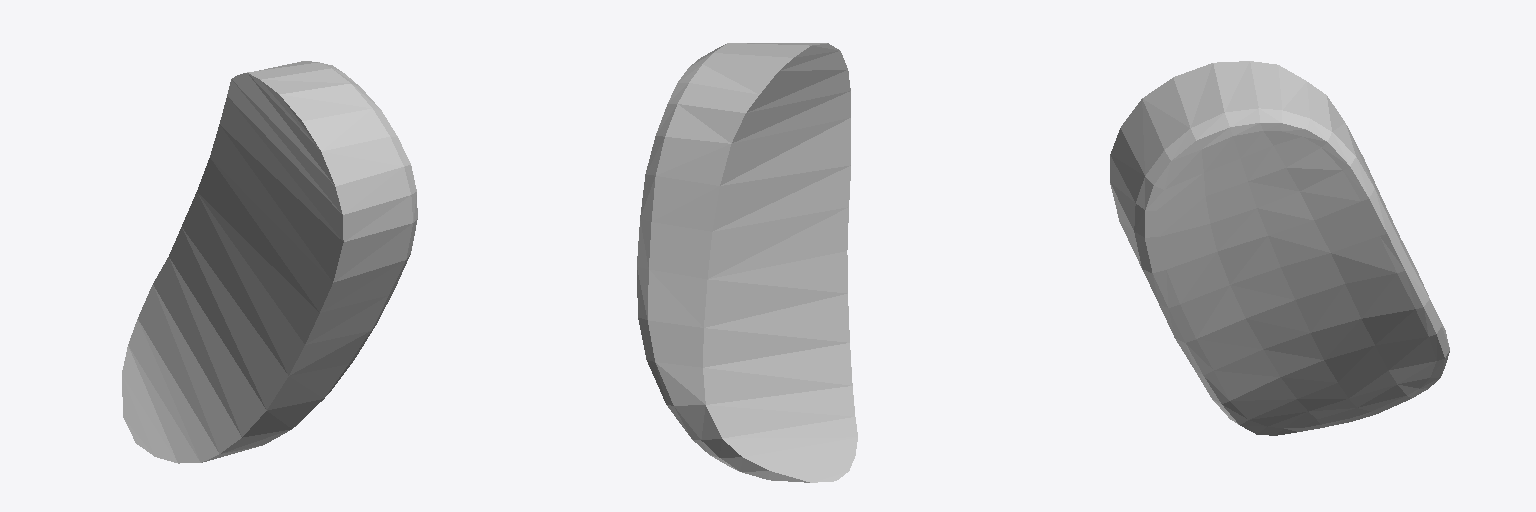
Rendered from button_grip.obj.
The picture shows the model from 3 angles: view 1: azimuth 30°, elevation 25°; view 2: azimuth 150°, elevation 25°; view 3: azimuth 270°, elevation 25°; orthographic projection.
Parts seen in each view (by area): view 1: l_button_grip; view 2: l_button_grip; view 3: l_button_grip.
Boxes of the visible parts, x1=… form: l_button_grip: x1=122, y1=61, x2=417, y2=463; l_button_grip: x1=637, y1=43, x2=857, y2=482; l_button_grip: x1=1110, y1=61, x2=1449, y2=435.
Size of the model in its own units: 0.0119 by 0.023 by 0.0187.